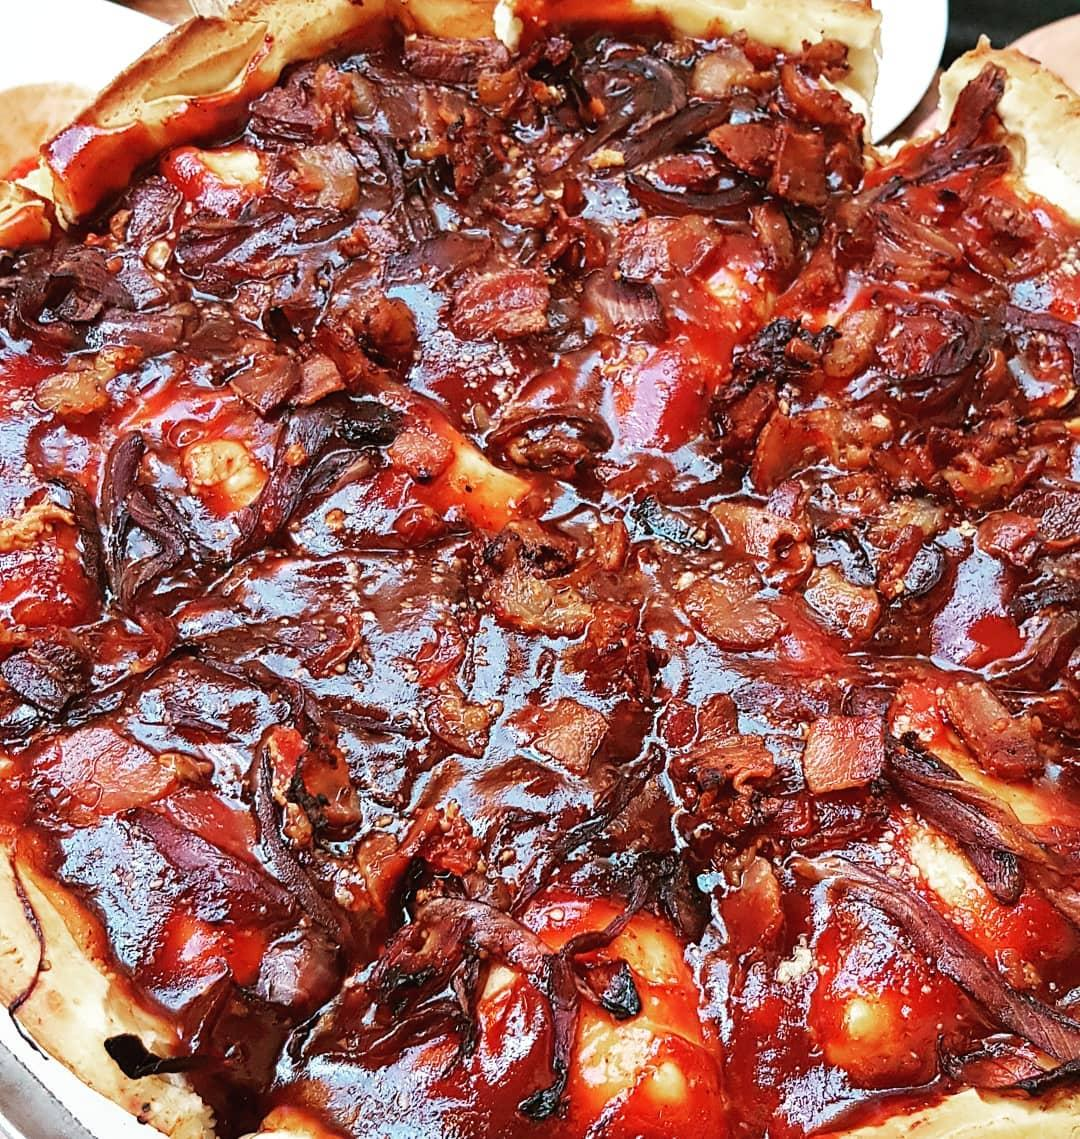Pepperoni: (7, 722, 411, 951), (587, 501, 915, 645), (519, 675, 901, 795), (845, 157, 1063, 304)
Pizza: (1, 11, 1080, 1139)
Tomatoes: (463, 909, 741, 1131), (892, 721, 1080, 977), (637, 224, 790, 455), (811, 891, 962, 1092), (388, 391, 527, 537), (1, 500, 93, 635), (164, 141, 298, 216), (168, 426, 276, 511)
